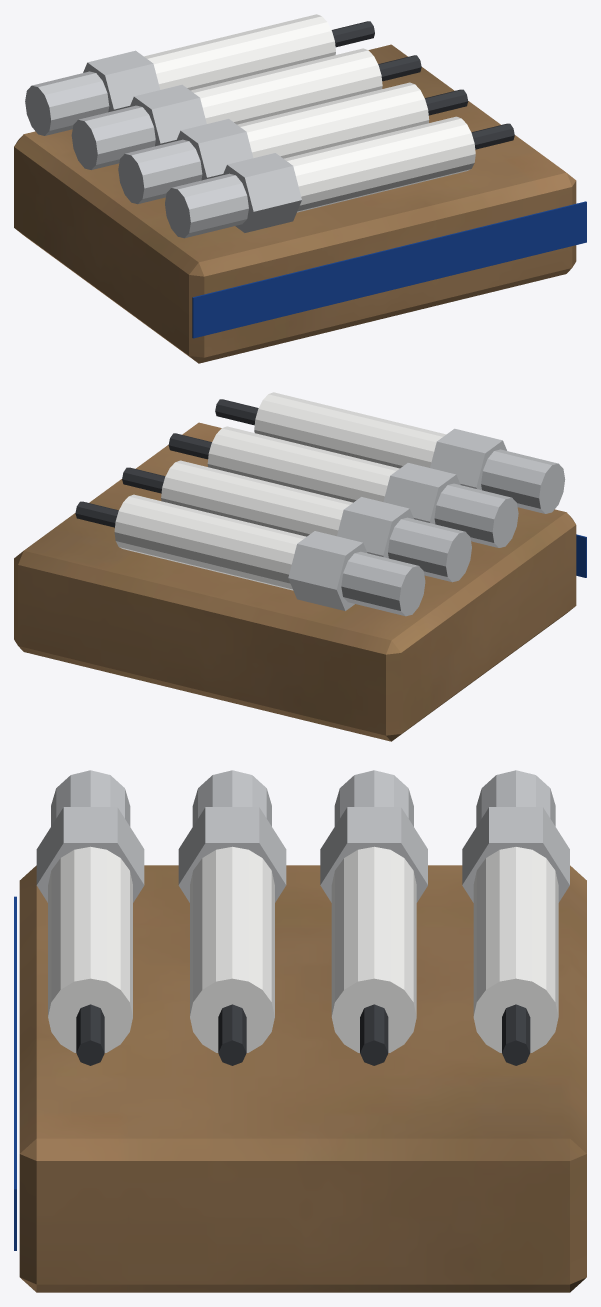
The model's file is velas_ignicao.glb.
3 views of the same model, one above another, from view 1: azimuth 30°, elevation 25°; view 2: azimuth 150°, elevation 25°; view 3: azimuth 270°, elevation 25° (orthographic). The views are drawn at different scales.
Visible parts, largest first — view 1: velas_ignicao_papelao, velas_ignicao_plastico_branco, velas_ignicao_aco, velas_ignicao_azul_ferramenta, velas_ignicao_aco_escuro; view 2: velas_ignicao_papelao, velas_ignicao_plastico_branco, velas_ignicao_aco, velas_ignicao_aco_escuro, velas_ignicao_azul_ferramenta; view 3: velas_ignicao_papelao, velas_ignicao_plastico_branco, velas_ignicao_aco, velas_ignicao_aco_escuro, velas_ignicao_azul_ferramenta.
Boxes of the visible parts, bbox=[...] form: velas_ignicao_papelao: bbox=[14, 44, 576, 363]; velas_ignicao_plastico_branco: bbox=[144, 14, 475, 212]; velas_ignicao_aco: bbox=[25, 50, 301, 238]; velas_ignicao_azul_ferramenta: bbox=[192, 201, 586, 338]; velas_ignicao_aco_escuro: bbox=[331, 21, 514, 149]; velas_ignicao_papelao: bbox=[14, 422, 576, 741]; velas_ignicao_plastico_branco: bbox=[114, 392, 445, 590]; velas_ignicao_aco: bbox=[288, 428, 565, 616]; velas_ignicao_aco_escuro: bbox=[75, 399, 258, 527]; velas_ignicao_azul_ferramenta: bbox=[576, 534, 586, 577]; velas_ignicao_papelao: bbox=[19, 865, 586, 1292]; velas_ignicao_plastico_branco: bbox=[48, 846, 558, 1052]; velas_ignicao_aco: bbox=[36, 770, 569, 902]; velas_ignicao_aco_escuro: bbox=[76, 1004, 530, 1065]; velas_ignicao_azul_ferramenta: bbox=[14, 896, 16, 1250].
Bounding box in the file's own units: 0.122 × 0.0492 × 0.101.
Materials: 5 (1 with a texture image).
